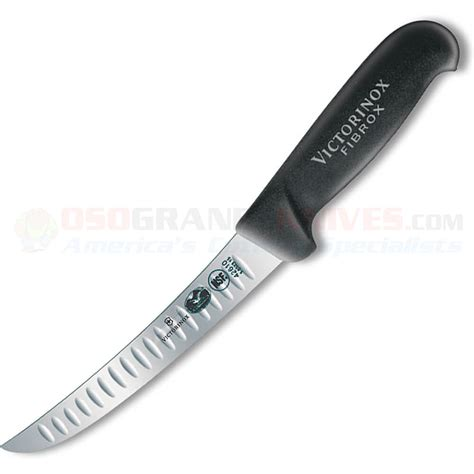knife: (4, 18, 460, 454)
